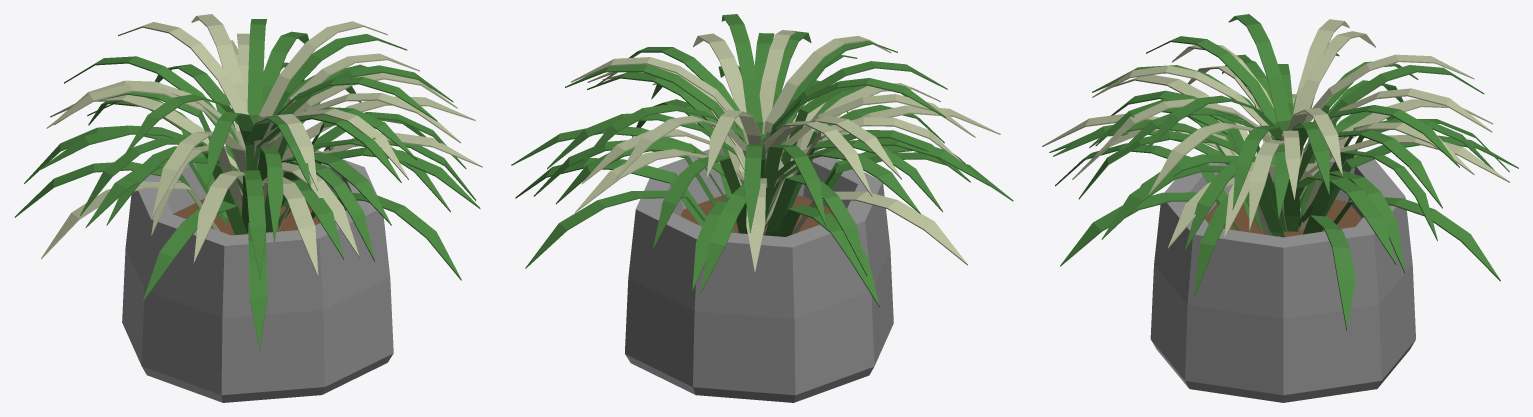
Rendered from Flower_58.fbx.
The picture shows the model from 3 angles, left to right: view 1: azimuth 30°, elevation 25°; view 2: azimuth 150°, elevation 25°; view 3: azimuth 270°, elevation 25°; orthographic projection.
Visible parts, largest first — view 1: Flower_58; view 2: Flower_58; view 3: Flower_58.
Boxes of the visible parts, <box> form: Flower_58: <box>14,14,482,402</box>; Flower_58: <box>511,14,1013,402</box>; Flower_58: <box>1042,14,1518,402</box>.
Bounding box in the file's own units: 78.59 × 76.64 × 49.51.
